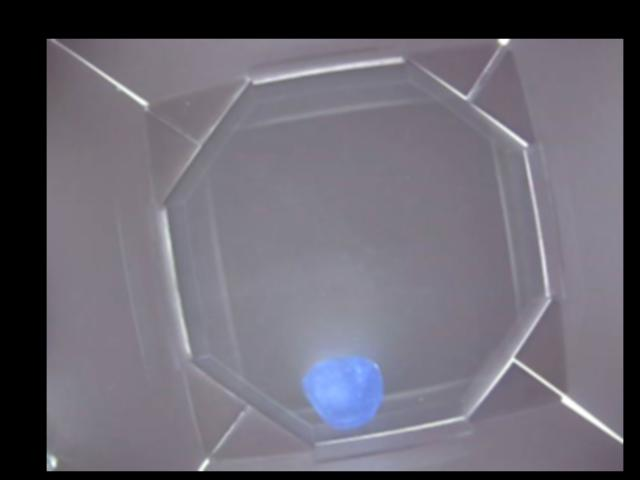Potato: (305, 354, 388, 430)
